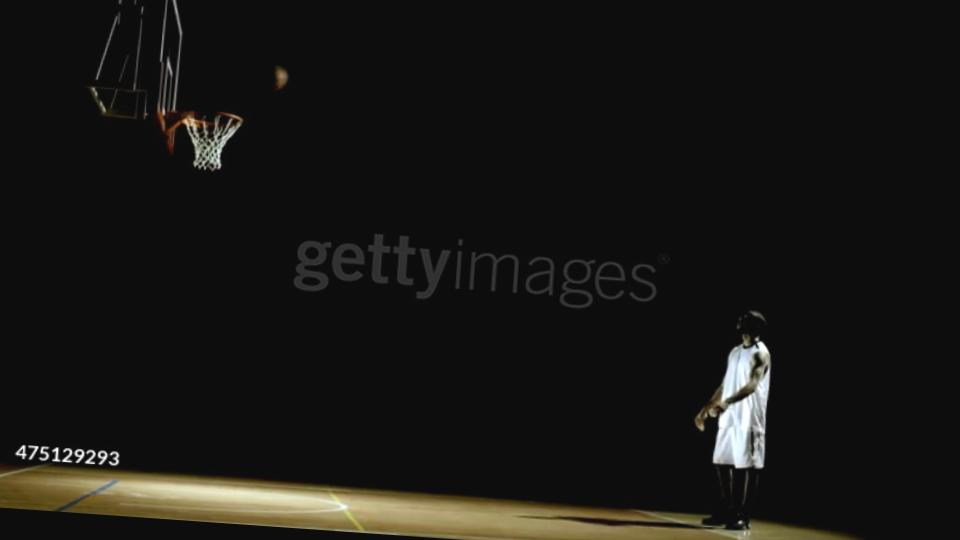hoop: (178, 109, 243, 133)
